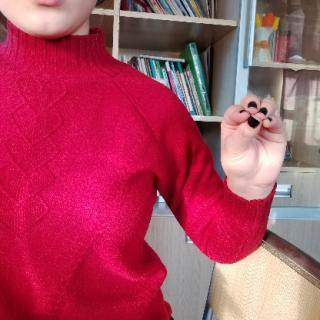HA: (213, 88, 295, 201)
